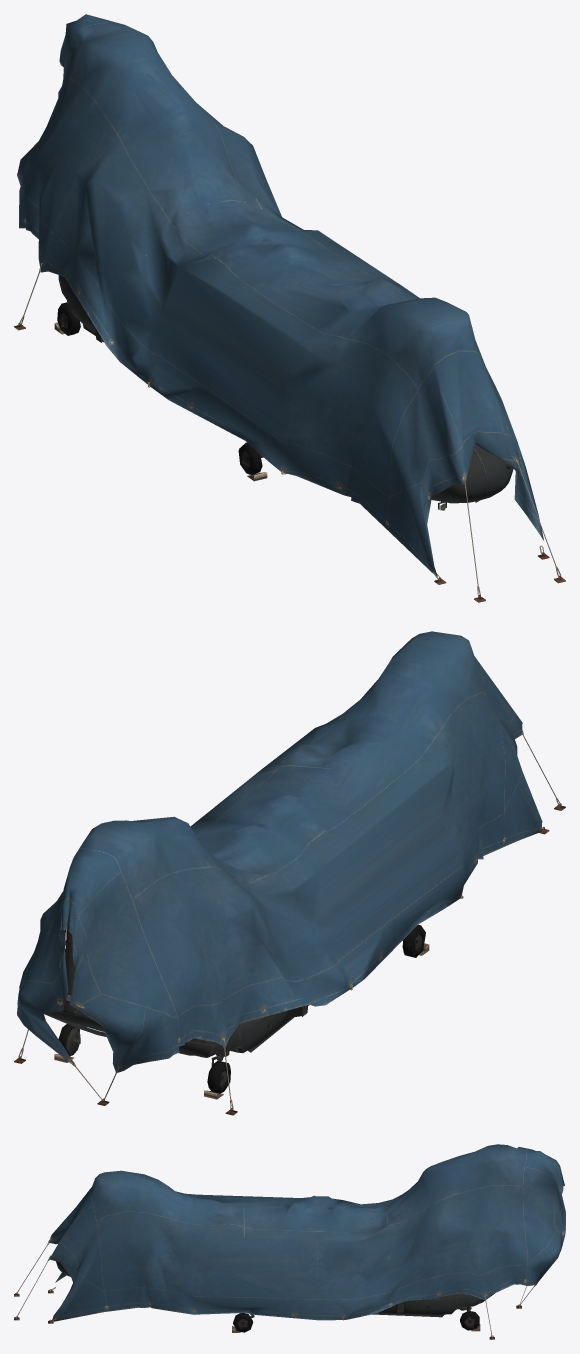
Rendered from covered_ch47_snow.glb.
3 views of the same model, one above another, from view 1: azimuth 30°, elevation 25°; view 2: azimuth 150°, elevation 25°; view 3: azimuth 270°, elevation 25° (orthographic). The views are drawn at different scales.
Visible parts, largest first — view 1: tarp_ch47_LOD0, ch47_covered_LOD0, ch47_covered_wrap_LOD0; view 2: tarp_ch47_LOD0, ch47_covered_LOD0, ch47_covered_wrap_LOD0; view 3: tarp_ch47_LOD0, ch47_covered_LOD0, ch47_covered_wrap_LOD0.
Boxes of the visible parts, box(x1,y1,x2,y2) form: tarp_ch47_LOD0: box(17, 14, 543, 576); ch47_covered_LOD0: box(57, 275, 513, 510); ch47_covered_wrap_LOD0: box(14, 263, 565, 602); tarp_ch47_LOD0: box(17, 631, 542, 1072); ch47_covered_LOD0: box(44, 924, 425, 1093); ch47_covered_wrap_LOD0: box(14, 730, 565, 1115); tarp_ch47_LOD0: box(49, 1144, 565, 1321); ch47_covered_LOD0: box(56, 1261, 494, 1332); ch47_covered_wrap_LOD0: box(14, 1239, 537, 1339).
Size of the model in its own units: 4.81 by 5.46 by 17.38.
Materials: 8 (8 with a texture image).
